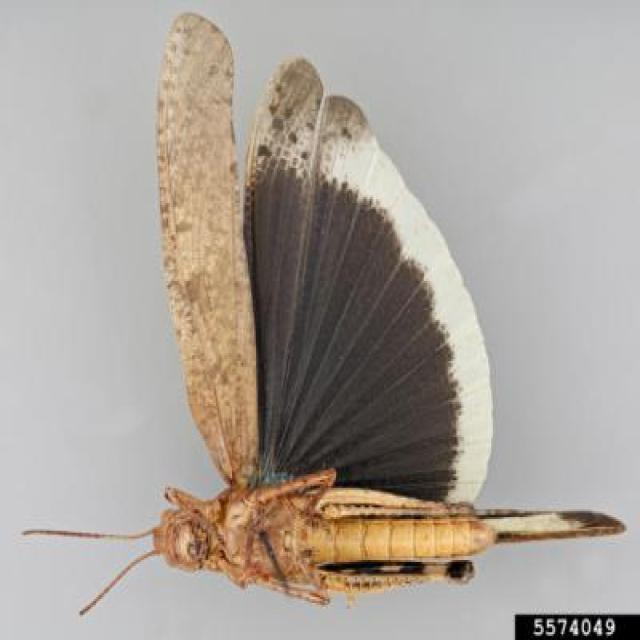antennae: (78, 544, 168, 614), (21, 521, 160, 542)
body: (144, 472, 497, 596)
insect: (20, 13, 631, 618)
legs: (240, 469, 336, 525), (234, 558, 328, 602)
mouthpart: (177, 522, 216, 560)
wings: (161, 14, 502, 502)
